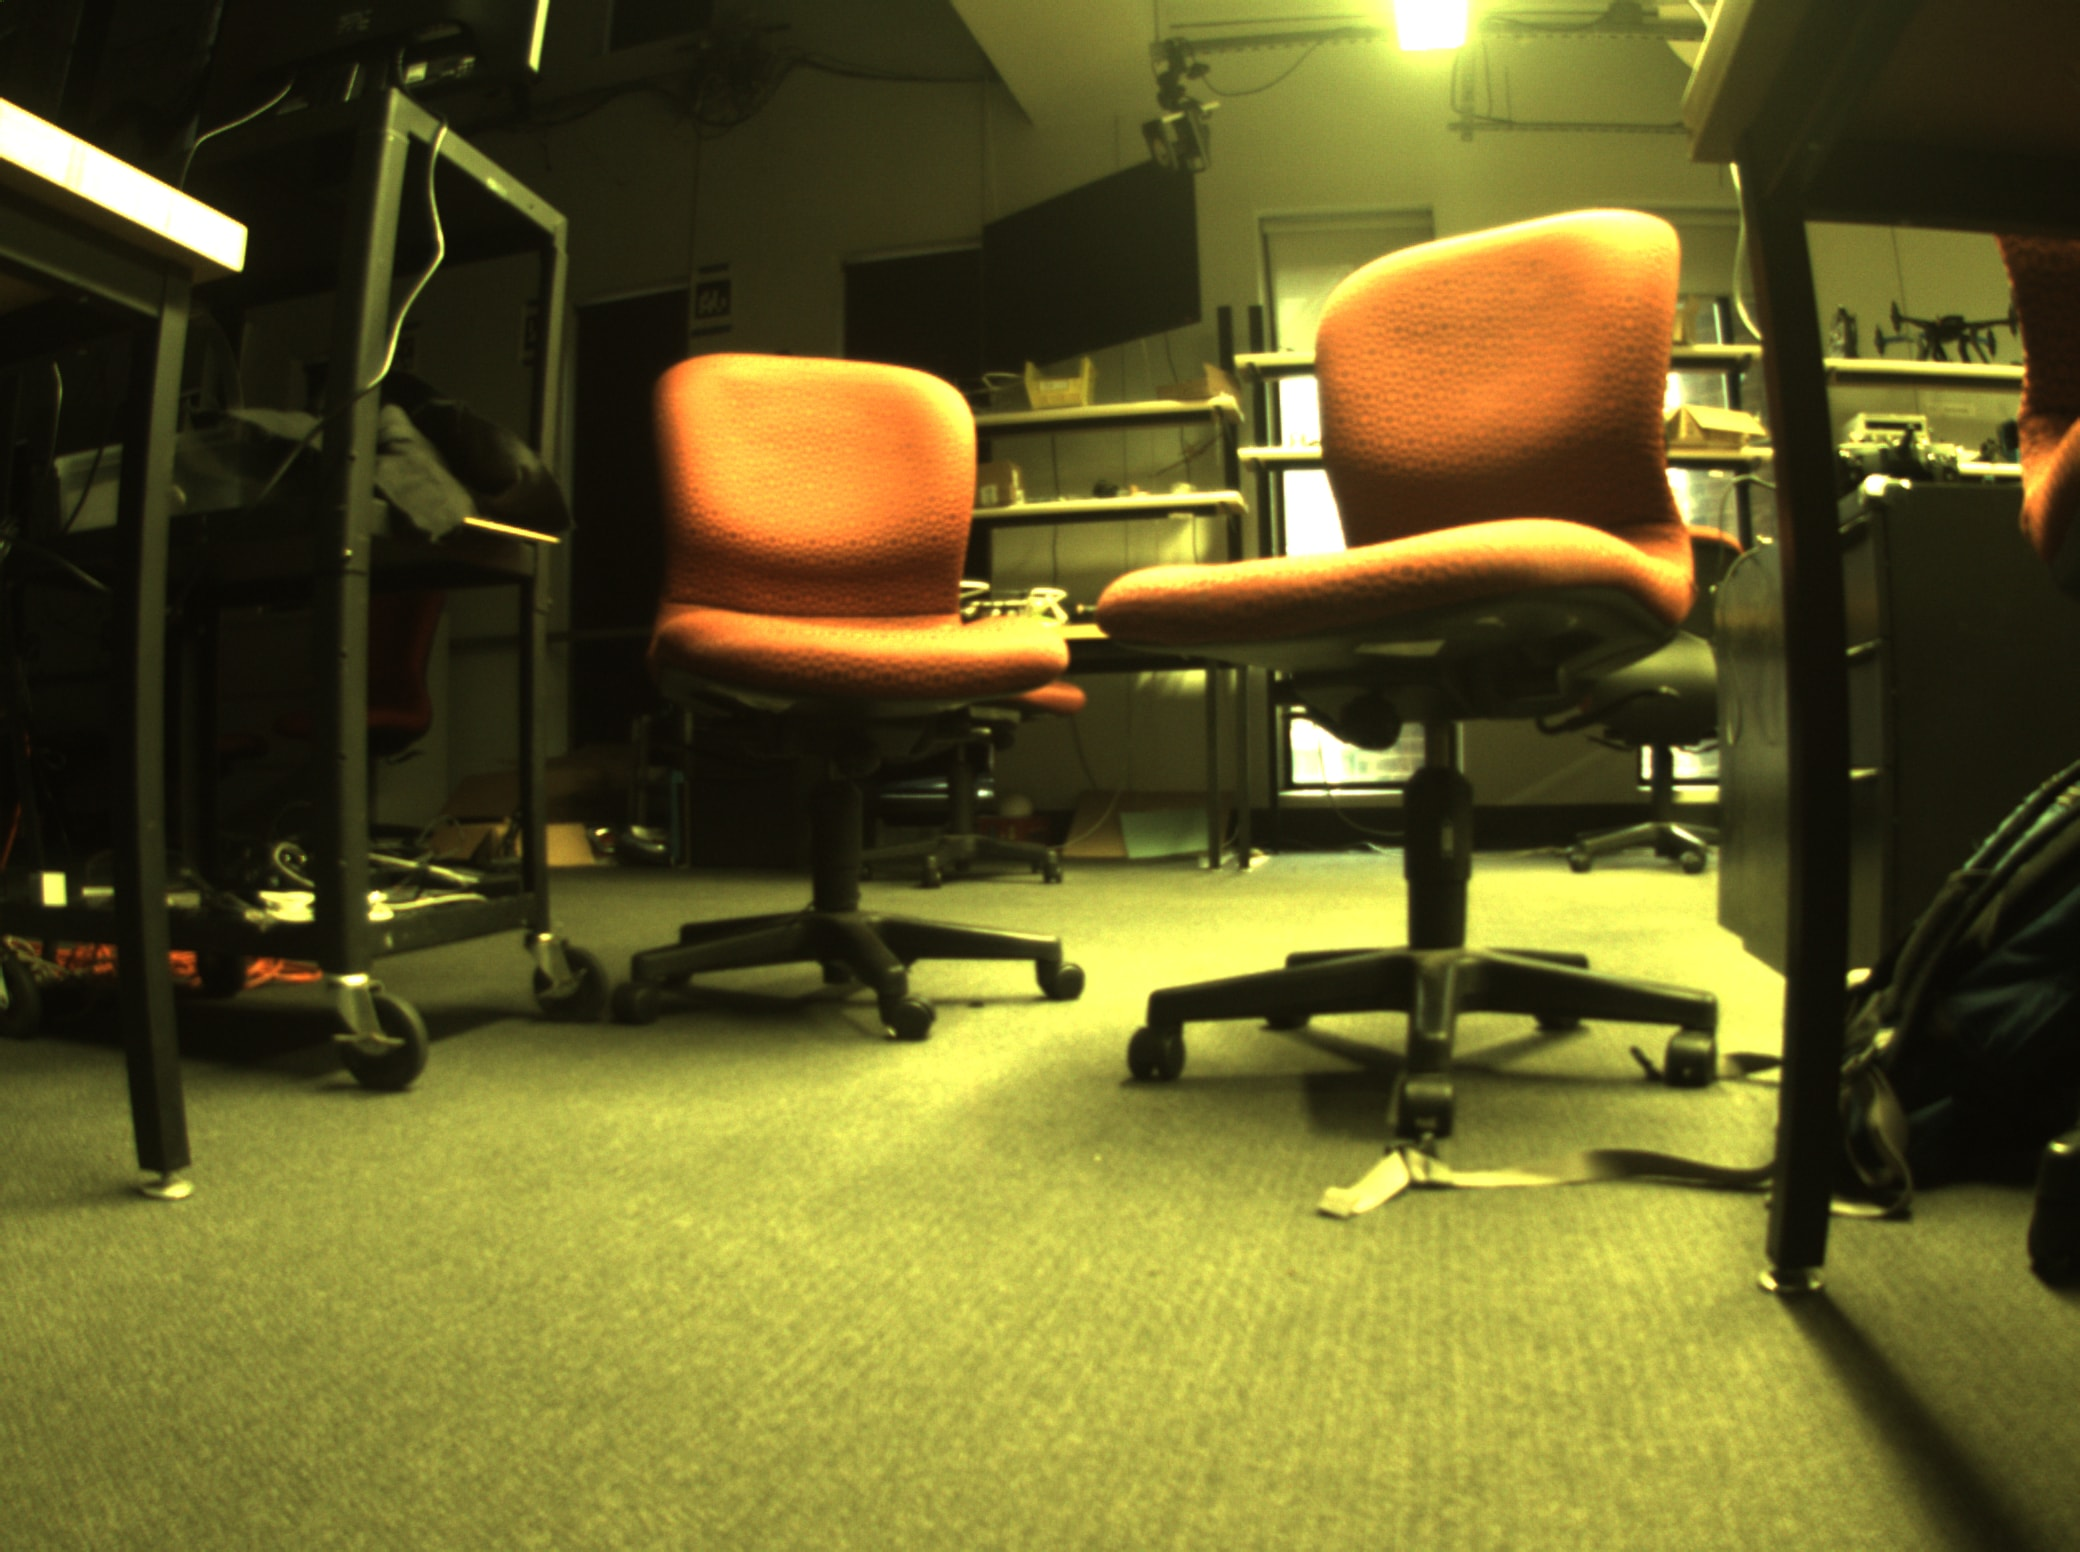chair: (1122, 166, 1785, 1203), (641, 311, 1122, 1086)
